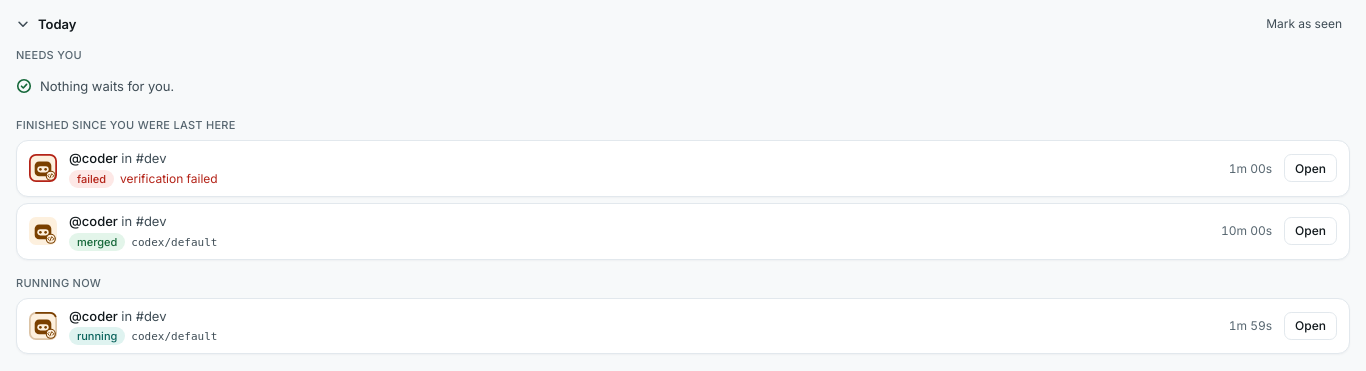
Test case: TodayBrief › clears the finished list on Mark as seen and remembers it
What coordinates should you click on to do the following:
click the button "Mark as seen"
I would click on:
 (1304, 24)
Its box is [1258,8,1350,40].
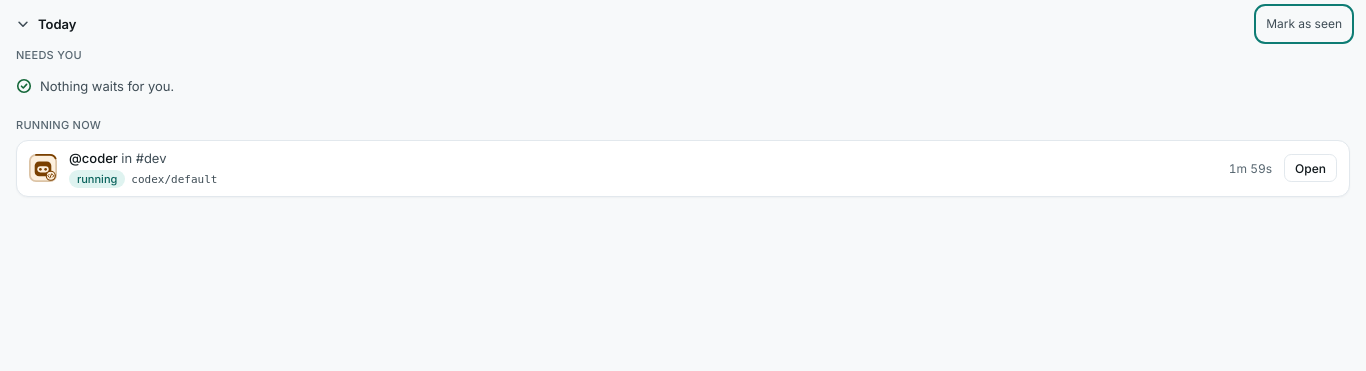
Expected: the link "verification failed" is gone
Expected: the heading "Finished since you were last here" is gone
